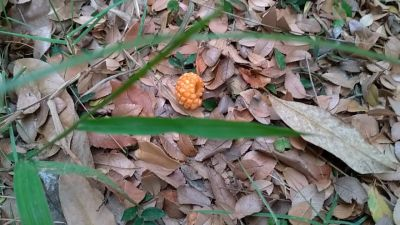eggs: (173, 71, 205, 111)
